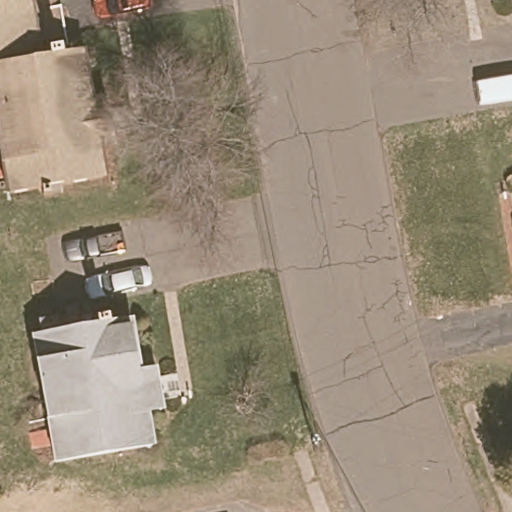DT: (303, 405, 322, 447)
